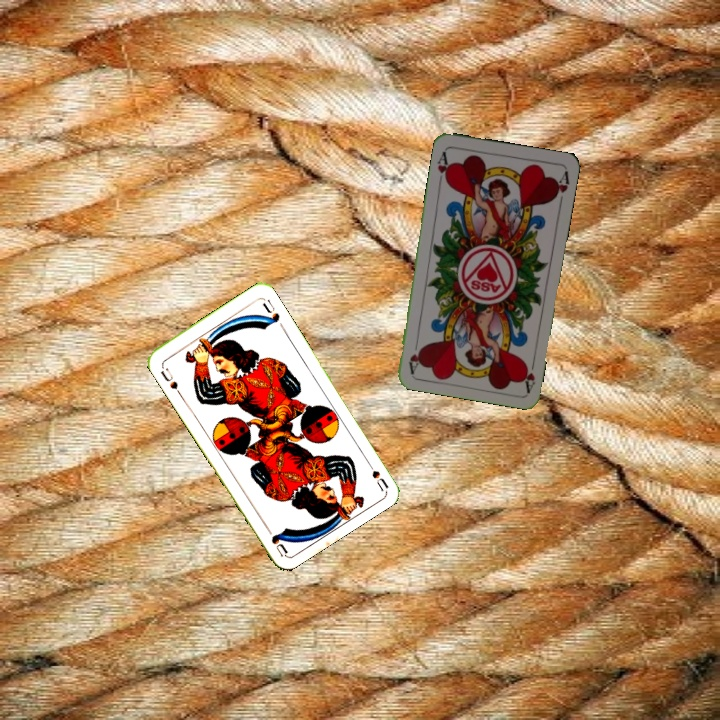HA: (518, 353, 538, 394), (433, 148, 453, 187)
SU: (361, 455, 391, 493), (157, 361, 184, 398)
